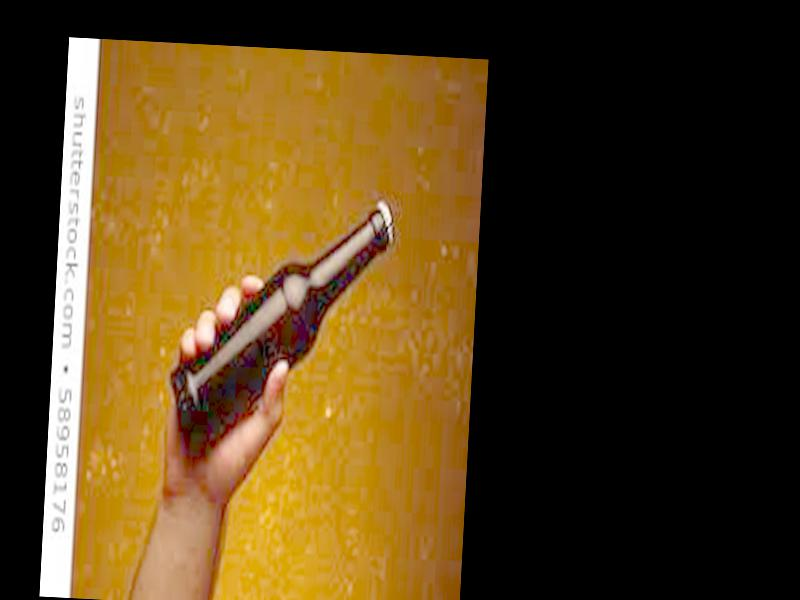Beer: (165, 186, 397, 477)
